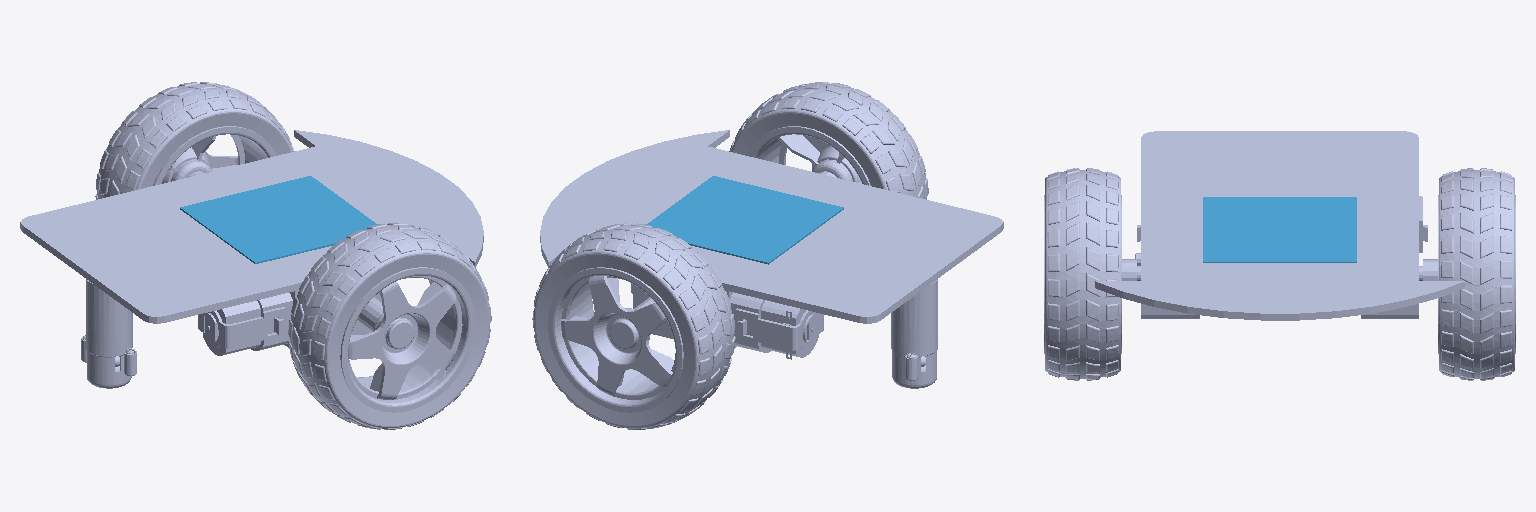
The robot description file, URDF, robot "grid_robot":
<?xml version="1.0" encoding="UTF-8"?>
<robot name="grid_robot">
    <gazebo reference="base_link">
        <material>Gazebo/Gray</material>
    </gazebo>
    <gazebo reference="left_wheel_link">
        <material>Gazebo/DarkGray</material>
    </gazebo>
    <gazebo reference="right_wheel_link">
        <material>Gazebo/DarkGray</material>
    </gazebo>
    <gazebo reference="april_tag_link">
        <material>Grid/AprilTag</material>
    </gazebo>

    <link name="base_link">
        <!-- <inertial>
            <origin xyz="-0.015269 0.00013788 0.0031994" rpy="0 0 0" />
            <mass value="0.085712" />
            <inertia ixx="2.5053E-05" ixy="3.2339E-08" ixz="-5.7345E-08" iyy="5.7021E-05" iyz="-1.3579E-12" izz="7.7753E-05" />
        </inertial> -->
        <visual>
            <origin xyz="0 0 0" rpy="0 0 0" />
            <geometry>
                <mesh filename="package://grid_robot/meshes/base_link.STL" />
            </geometry>
            <material name="">
                <color rgba="0.79216 0.81961 0.93333 1" />
            </material>
        </visual>
        <collision>
            <origin xyz="0 0 0" rpy="0 0 0" />
            <geometry>
                <mesh filename="package://grid_robot/meshes/base_link.STL" />
            </geometry>
        </collision>
    </link>
    <link name="april_tag_link">
        <inertial>
            <origin xyz="0 0 0" rpy="0 0 0" />
            <mass value="0.0001" />
            <inertia ixx="0" ixy="0" ixz="0" iyy="0" iyz="0" izz="0" />
        </inertial>
        <visual>
            <origin xyz="0 0 0" rpy="0 0 0" />
            <geometry>
                <box size="0.05 0.05 0.001"/>
            </geometry>
        </visual>
    </link>
    <joint name="april_tag_joint" type="fixed">
        <origin xyz="0 0 0.013" rpy="0 0 0" />
        <parent link="base_link" />
        <child link="april_tag_link" />
        <axis xyz="0 0 0" />
    </joint>
    <link name="left_wheel_link">
        <inertial>
            <origin xyz="1.0812E-08 -0.01184 5.4359E-08" rpy="0 0 0" />
            <mass value="0.16609" />
            <inertia ixx="6.7223E-05" ixy="-4.3576E-12" ixz="1.8785E-10" iyy="0.0001132" iyz="3.5174E-11" izz="6.7223E-05" />
        </inertial>
        <visual>
            <origin xyz="0 0 0" rpy="0 0 0" />
            <geometry>
                <mesh filename="package://grid_robot/meshes/left_wheel_link.STL" />
            </geometry>
            <material name="">
                <color rgba="0.79216 0.81961 0.93333 1" />
            </material>
        </visual>
        <collision>
            <origin xyz="0 0 0" rpy="0 0 0" />
            <geometry>
                <mesh filename="package://grid_robot/meshes/left_wheel_link.STL" />
            </geometry>
        </collision>
    </link>
    <joint name="left_wheel_joint" type="continuous">
        <origin xyz="0.0039444 0.076245 -0.00082" rpy="0 0 0" />
        <parent link="base_link" />
        <child link="left_wheel_link" />
        <axis xyz="0 1 0" />
    </joint>
    <link name="right_wheel_link">
        <inertial>
            <origin xyz="3.6854E-08 0.01184 -4.1395E-08" rpy="0 0 0" />
            <mass value="0.16609" />
            <inertia ixx="6.7223E-05" ixy="-1.4057E-11" ixz="-1.0233E-10" iyy="0.0001132" iyz="3.2536E-11" izz="6.7223E-05" />
        </inertial>
        <visual>
            <origin xyz="0 0 0" rpy="0 0 0" />
            <geometry>
                <mesh filename="package://grid_robot/meshes/right_wheel_link.STL" />
            </geometry>
            <material name="">
                <color rgba="0.79216 0.81961 0.93333 1" />
            </material>
        </visual>
        <collision>
            <origin xyz="0 0 0" rpy="0 0 0" />
            <geometry>
                <mesh filename="package://grid_robot/meshes/right_wheel_link.STL" />
            </geometry>
        </collision>
    </link>
    <joint name="right_wheel_joint" type="continuous">
        <origin xyz="0.0039444 -0.076315 -0.00082" rpy="0 0 0" />
        <parent link="base_link" />
        <child link="right_wheel_link" />
        <axis xyz="0 1 0" />
    </joint>

    <gazebo>
        <plugin name="differential_drive_controller" filename="libgazebo_ros_diff_drive.so">
            <!-- Plugin update rate in Hz -->
            <updateRate>30</updateRate>
            <!-- Name of left joint, defaults to `left_joint` -->
            <leftJoint>left_wheel_joint</leftJoint>
            <!-- Name of right joint, defaults to `right_joint` -->
            <rightJoint>right_wheel_joint</rightJoint>
            <!-- The distance from the center of one wheel to the other, in meters, defaults to 0.34 m -->
            <wheelSeparation>0.152</wheelSeparation>
            <!-- Diameter of the wheels, in meters, defaults to 0.15 m -->
            <wheelDiameter>0.061</wheelDiameter>
            <!-- Wheel acceleration, in rad/s^2, defaults to 0.0 rad/s^2 -->
            <wheelAcceleration>1.0</wheelAcceleration>
            <!-- Maximum torque which the wheels can produce, in Nm, defaults to 5 Nm -->
            <wheelTorque>20</wheelTorque>
            <!-- Topic to receive geometry_msgs/Twist message commands, defaults to `cmd_vel` -->
            <commandTopic>cmd_vel</commandTopic>
            <!-- Topic to publish nav_msgs/Odometry messages, defaults to `odom` -->
            <odometryTopic>odom</odometryTopic>
            <!-- Odometry frame, defaults to `odom` -->
            <odometryFrame>odom</odometryFrame>
            <!-- Robot frame to calculate odometry from, defaults to `base_footprint` -->
            <robotBaseFrame>base_footprint</robotBaseFrame>
            <!-- Odometry source, 0 for ENCODER, 1 for WORLD, defaults to WORLD -->
            <odometrySource>1</odometrySource>
            <!-- Set to true to publish transforms for the wheel links, defaults to false -->
            <publishWheelTF>true</publishWheelTF>
            <!-- Set to true to publish transforms for the odometry, defaults to true -->
            <publishOdom>true</publishOdom>
            <!-- Set to true to publish sensor_msgs/JointState on /joint_states for the wheel joints, defaults to false -->
            <publishWheelJointState>true</publishWheelJointState>
            <!-- Set to true to swap right and left wheels, defaults to true -->
            <legacyMode>false</legacyMode>
        </plugin>
    </gazebo>
</robot>

--- Facts derived from the render (not from the file) ---
Views: 3 orthographic renders of the robot side by side, from view 1: azimuth 30°, elevation 25°; view 2: azimuth 150°, elevation 25°; view 3: azimuth 270°, elevation 25°.
Model grid_robot with 4 links and 3 joints (2 continuous, 1 fixed), rooted at base_link, posed all joints at 0.
Links seen in each view (by area): view 1: base_link, right_wheel_link, left_wheel_link, april_tag_link; view 2: base_link, left_wheel_link, right_wheel_link, april_tag_link; view 3: base_link, right_wheel_link, left_wheel_link, april_tag_link.
Link boxes in pixels (x1,y1,x2,y2): base_link: (20, 130, 483, 388); right_wheel_link: (288, 223, 491, 429); left_wheel_link: (95, 82, 294, 199); april_tag_link: (180, 176, 377, 263); base_link: (540, 130, 1003, 388); left_wheel_link: (532, 223, 735, 429); right_wheel_link: (729, 82, 928, 199); april_tag_link: (646, 176, 843, 264); base_link: (1095, 131, 1464, 320); right_wheel_link: (1044, 168, 1136, 380); left_wheel_link: (1423, 168, 1515, 380); april_tag_link: (1203, 197, 1356, 262).
Bounding box of the posed robot: 0.1398 × 0.1526 × 0.0689 m (x, y, z).
3 mesh visuals loaded from 3 distinct referenced files (3 binary STL).